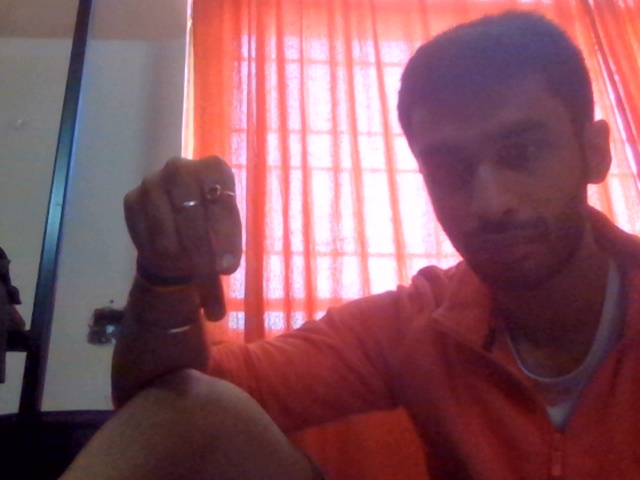P: (96, 150, 303, 359)
